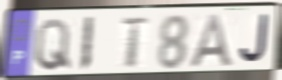8: (157, 13, 191, 72)
A: (188, 13, 235, 69)
I: (78, 15, 96, 73)
J: (238, 13, 270, 67)
Q: (34, 17, 72, 73)
T: (119, 17, 152, 70)
